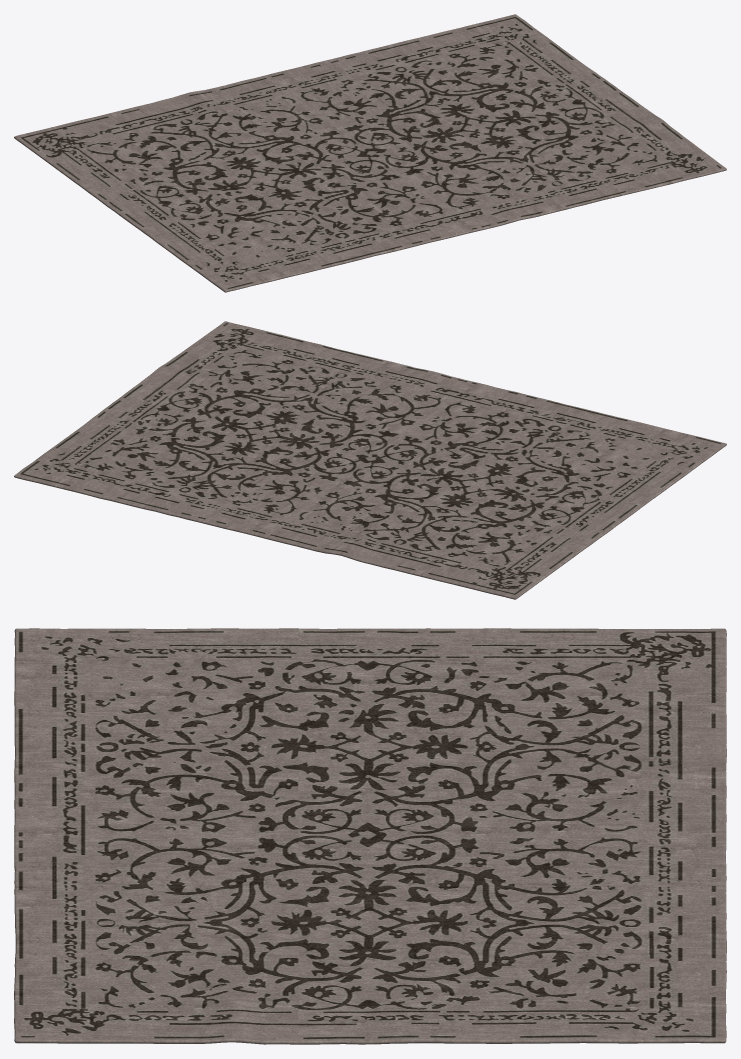
The model's file is audrey.gltf.
The picture shows the model from 3 angles, top to bottom: view 1: azimuth 30°, elevation 25°; view 2: azimuth 150°, elevation 25°; view 3: azimuth 270°, elevation 25°; orthographic projection. The views are drawn at different scales.
Parts seen in each view (by area): view 1: zenobia; view 2: zenobia; view 3: zenobia.
Boxes of the visible parts, x1,y1,x2,y2 form: zenobia: [14, 14, 726, 292]; zenobia: [14, 321, 726, 599]; zenobia: [14, 628, 726, 1044].
Bounding box in the file's own units: 2.2 × 0.016 × 1.6.
1 material, 1 textured.
